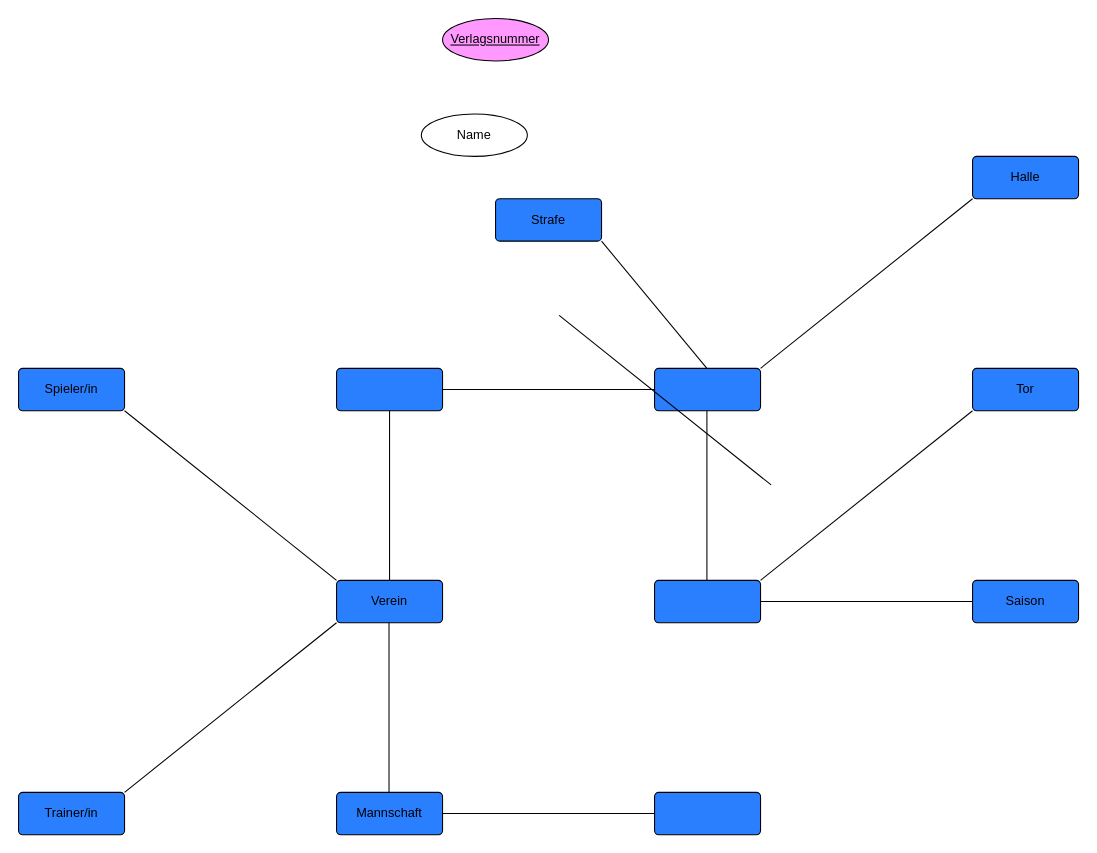
Image size: 1097x853. Some labels were removed from this diagram. Each missing label, with the centre of its shape:
"Liga" belongs at (707,813).
"Schiedsrichter" belongs at (389,389).
"Spiel" belongs at (707,389).
"Spielereignis" belongs at (707,601).
